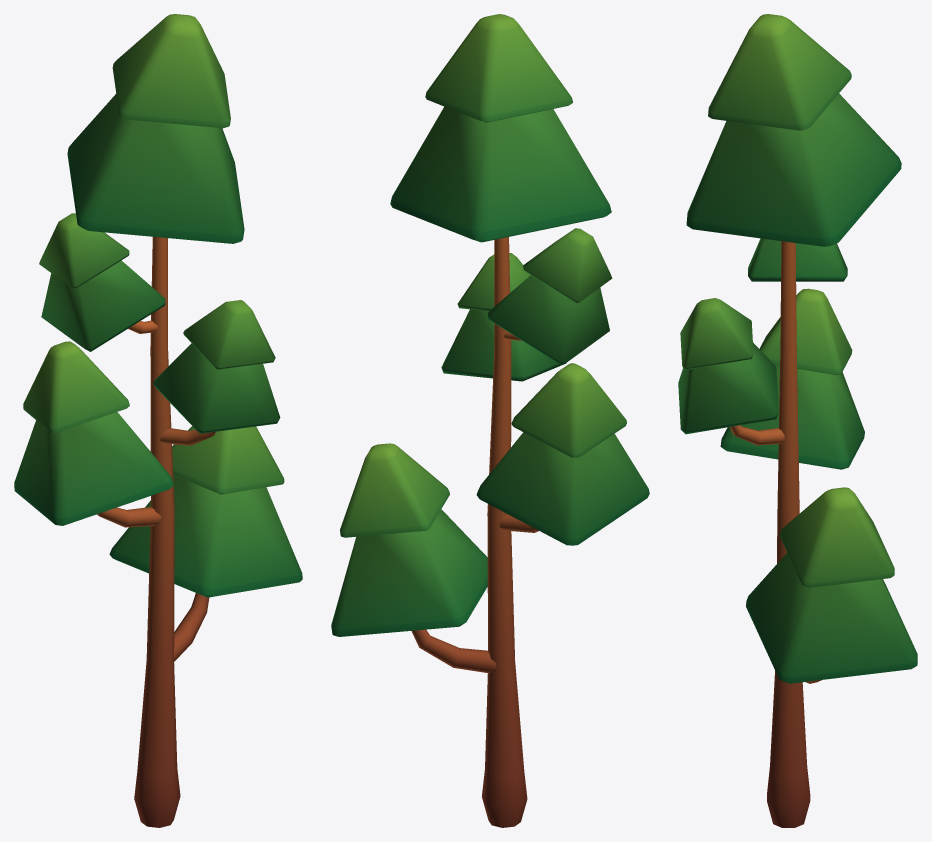
File: Tree_4_C.glb
3 renders of one model, left to right at view 1: azimuth 30°, elevation 25°; view 2: azimuth 150°, elevation 25°; view 3: azimuth 270°, elevation 25°, orthographic. The views are drawn at different scales.
Size of the model in its own units: 3.74 by 10.77 by 2.87.
